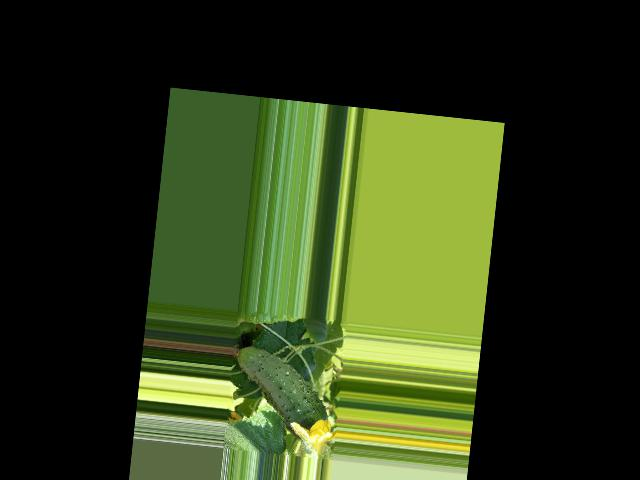cucumber: (224, 343, 334, 441)
